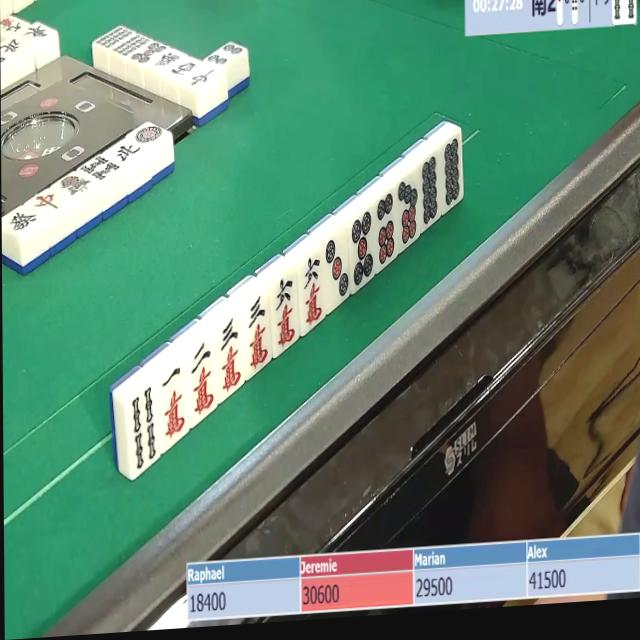m1: (157, 362, 194, 447)
m2: (190, 336, 218, 416)
m3: (214, 313, 250, 398), (242, 293, 275, 375)
m6: (298, 250, 332, 331), (271, 272, 303, 353)
s3: (613, 0, 636, 25)
s4: (126, 383, 163, 479)
t3: (323, 232, 351, 304)
t5: (349, 211, 376, 292)
t6: (371, 188, 401, 270)
t7: (396, 172, 424, 251)
t8: (419, 154, 443, 230), (441, 132, 464, 210)
